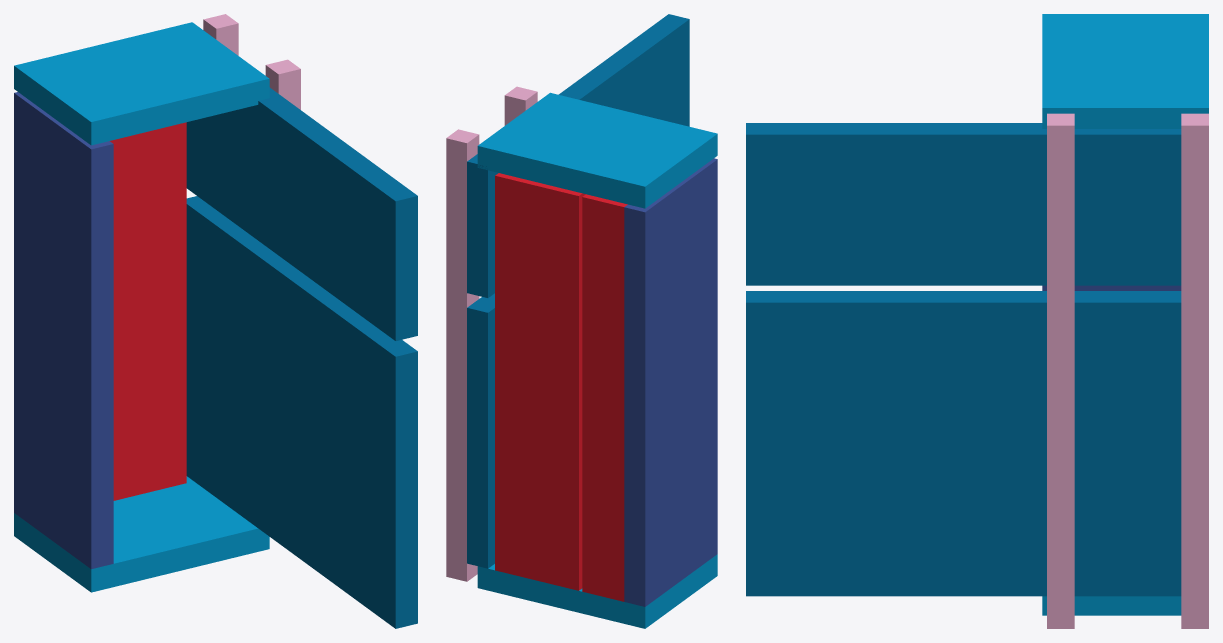
Rendered from tinker.obj.
3 renders of one model, left to right at view 1: azimuth 30°, elevation 25°; view 2: azimuth 150°, elevation 25°; view 3: azimuth 270°, elevation 25°, orthographic. The views are drawn at different scales.
Parts seen in each view (by area): view 1: obj_3, obj_7, obj_6, obj_8, obj_5, obj_2, obj_4, obj_1, obj_10, obj_9; view 2: obj_3, obj_1, obj_5, obj_0, obj_2, obj_6, obj_9, obj_4, obj_7, obj_8, obj_10; view 3: obj_7, obj_6, obj_8, obj_5, obj_9, obj_10, obj_4, obj_3.
Part boxes in pixels (box(x1,y1,x2,y2)): obj_3: box(14, 92, 113, 569); obj_7: box(186, 196, 417, 496); obj_6: box(186, 87, 417, 340); obj_8: box(186, 336, 417, 628); obj_5: box(14, 22, 269, 145); obj_2: box(142, 122, 186, 493); obj_4: box(14, 476, 269, 592); obj_1: box(110, 133, 141, 500); obj_10: box(265, 59, 300, 109); obj_9: box(203, 14, 238, 55); obj_3: box(624, 158, 717, 606); obj_1: box(537, 183, 585, 590); obj_5: box(477, 92, 717, 208); obj_0: box(582, 194, 627, 601); obj_2: box(495, 173, 540, 580); obj_6: box(467, 14, 689, 297); obj_9: box(446, 129, 479, 581); obj_4: box(477, 554, 717, 628); obj_7: box(467, 293, 494, 443); obj_8: box(467, 432, 494, 568); obj_10: box(504, 86, 537, 125); obj_7: box(746, 291, 1181, 453); obj_6: box(746, 123, 1181, 285); obj_8: box(746, 449, 1181, 596); obj_5: box(1042, 14, 1208, 128); obj_9: box(1181, 113, 1208, 628); obj_10: box(1047, 113, 1074, 628); obj_4: box(1042, 596, 1181, 615); obj_3: box(1042, 285, 1181, 290).
Bounding box in the file's own units: 11.4 × 24.2 × 20.
